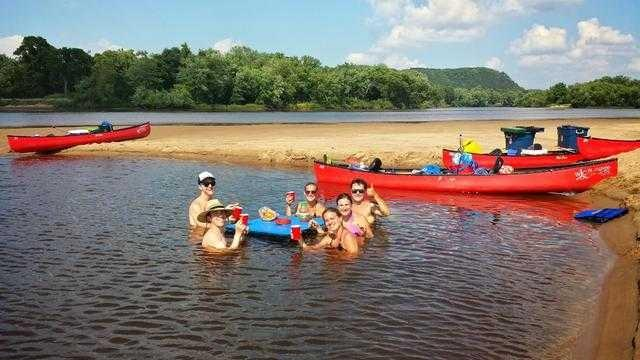kayak: (314, 135, 632, 195), (6, 119, 152, 154), (243, 207, 322, 243)
